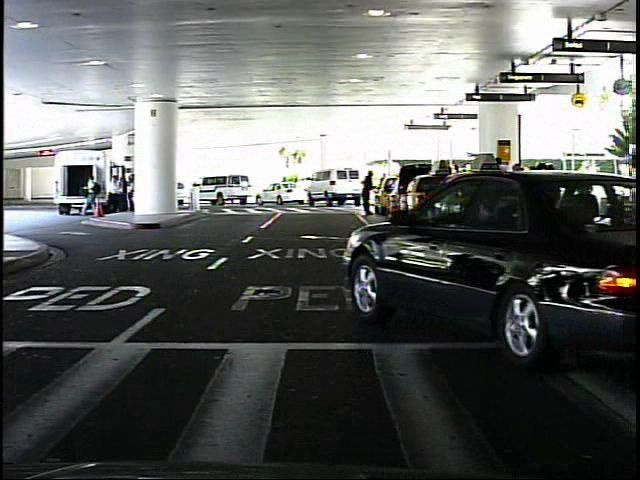person: (360, 164, 383, 220), (577, 165, 597, 223)
